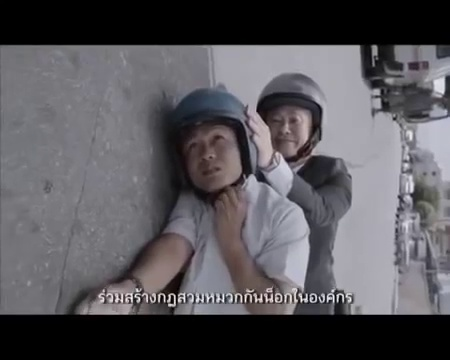helmet: (163, 86, 254, 184), (259, 65, 327, 140)
